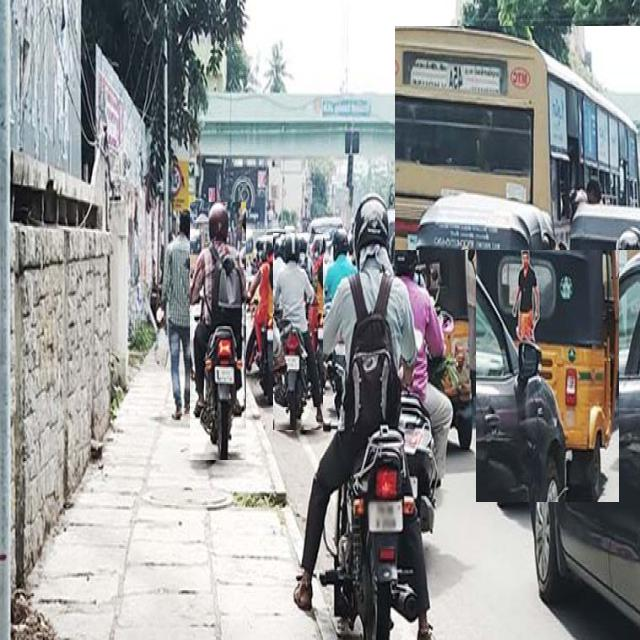autorickshaw: (476, 196, 619, 502), (389, 205, 471, 447)
bus: (395, 27, 640, 250)
car: (530, 256, 640, 624)
motorcycle: (294, 196, 430, 638), (190, 202, 246, 460), (274, 233, 323, 430)
